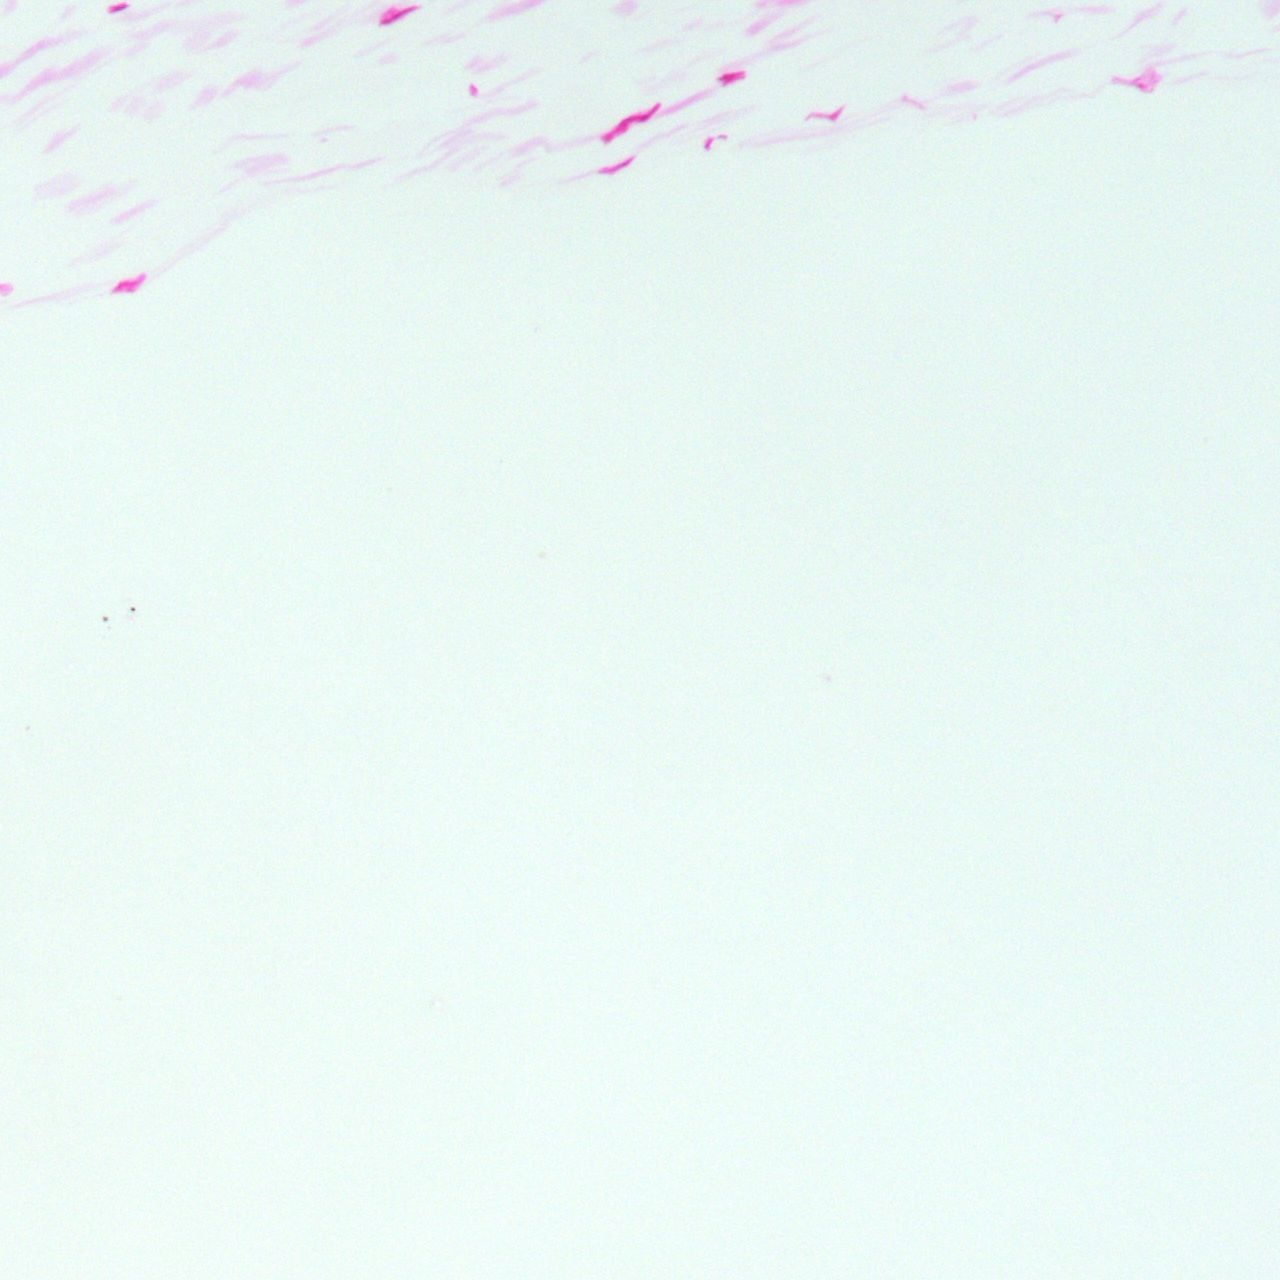dust: (102, 617, 108, 622), (129, 606, 134, 613)
nucleus-FG: (600, 98, 663, 145), (598, 152, 638, 179), (380, 1, 423, 23), (716, 68, 748, 87), (111, 278, 144, 293), (1136, 82, 1150, 94), (702, 136, 714, 149)
